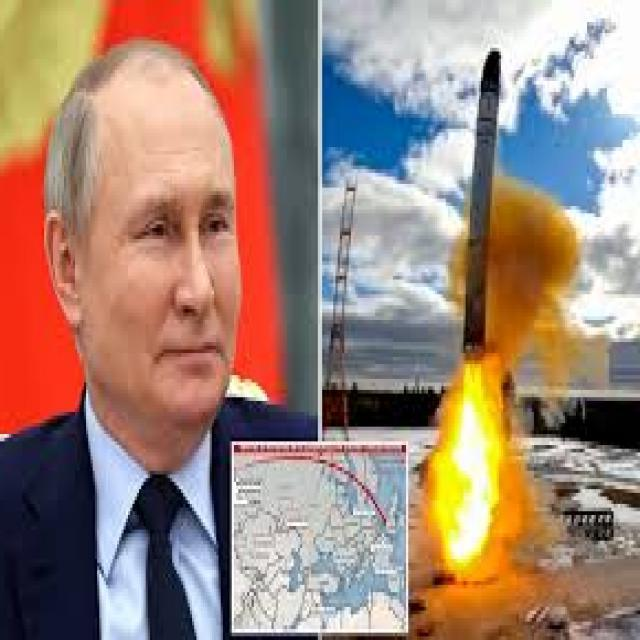Missile: (458, 40, 503, 363)
